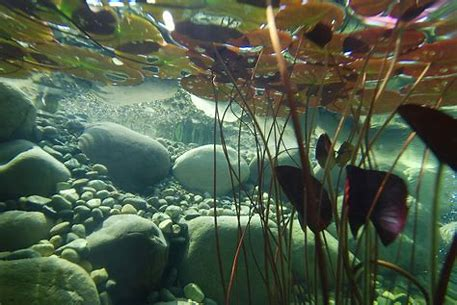inorganic: (1, 4, 455, 146)
